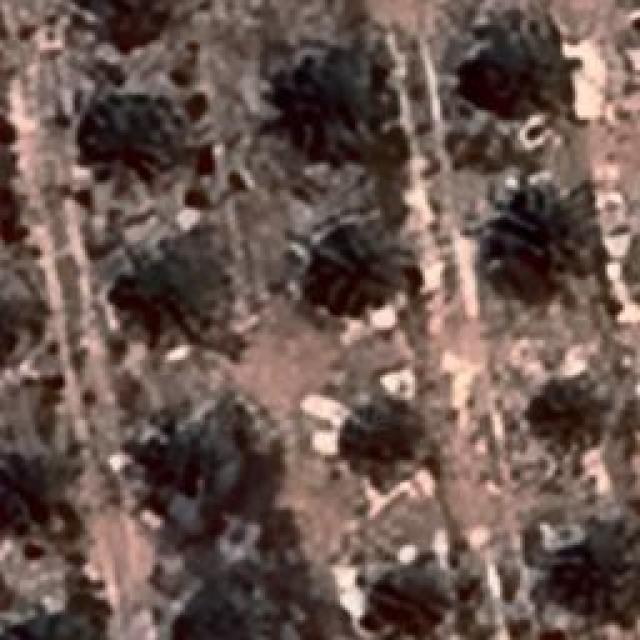PalmTree: (92, 27, 220, 611), (50, 58, 92, 626), (475, 36, 585, 114), (118, 265, 205, 355), (294, 51, 384, 134), (312, 238, 412, 310), (87, 100, 185, 170), (348, 400, 434, 475), (561, 535, 639, 613), (536, 380, 612, 460), (498, 195, 582, 263), (373, 557, 438, 640), (141, 432, 209, 506), (0, 458, 58, 524), (100, 0, 170, 48), (0, 284, 26, 366), (2, 620, 100, 640), (0, 282, 16, 366)
